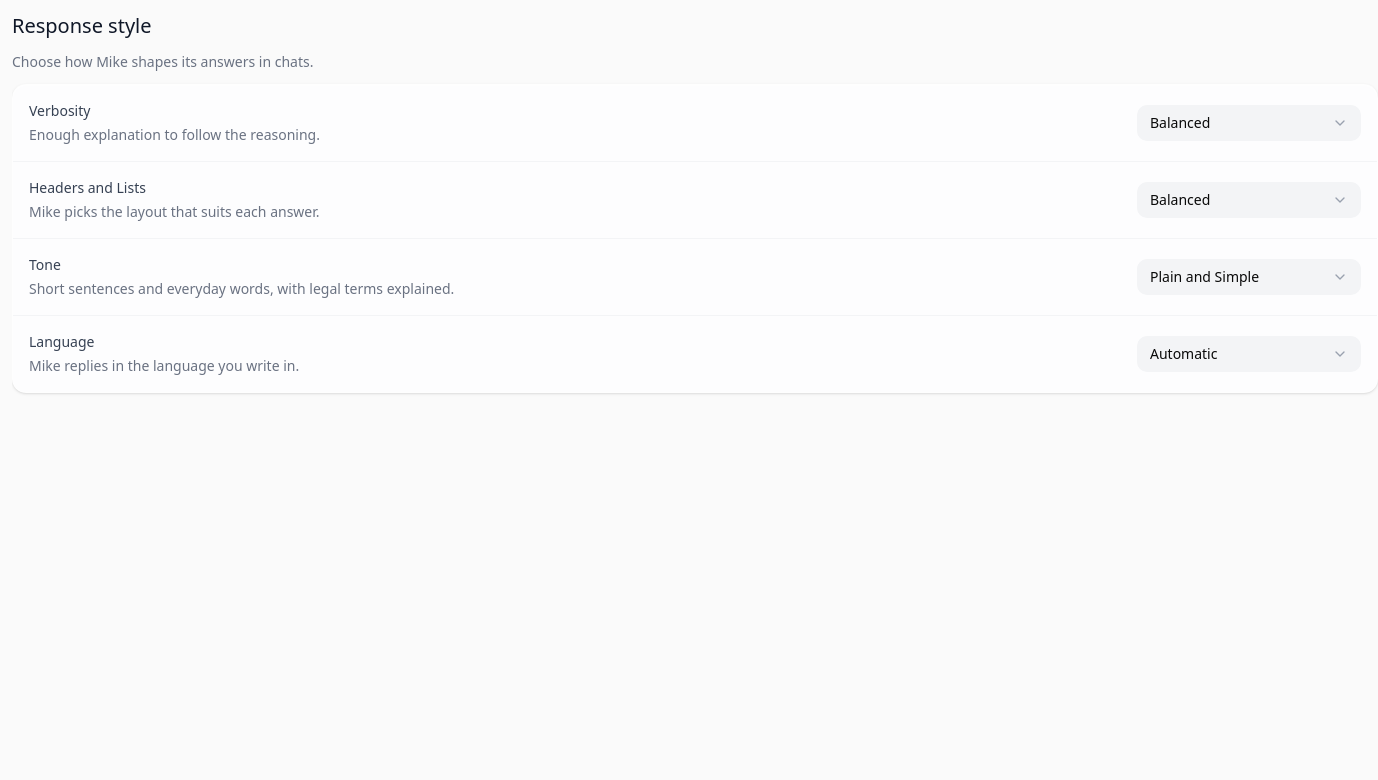
Test: ResponseStyleSection › offers English variants and other languages, and saves the choice
Check: the text "Mike replies in the language you write in." is shown, box 29,356 -> 299,376
Press the mouse on the button with aria-label "Language" at (1249, 354), box 1137,336 -> 1361,372
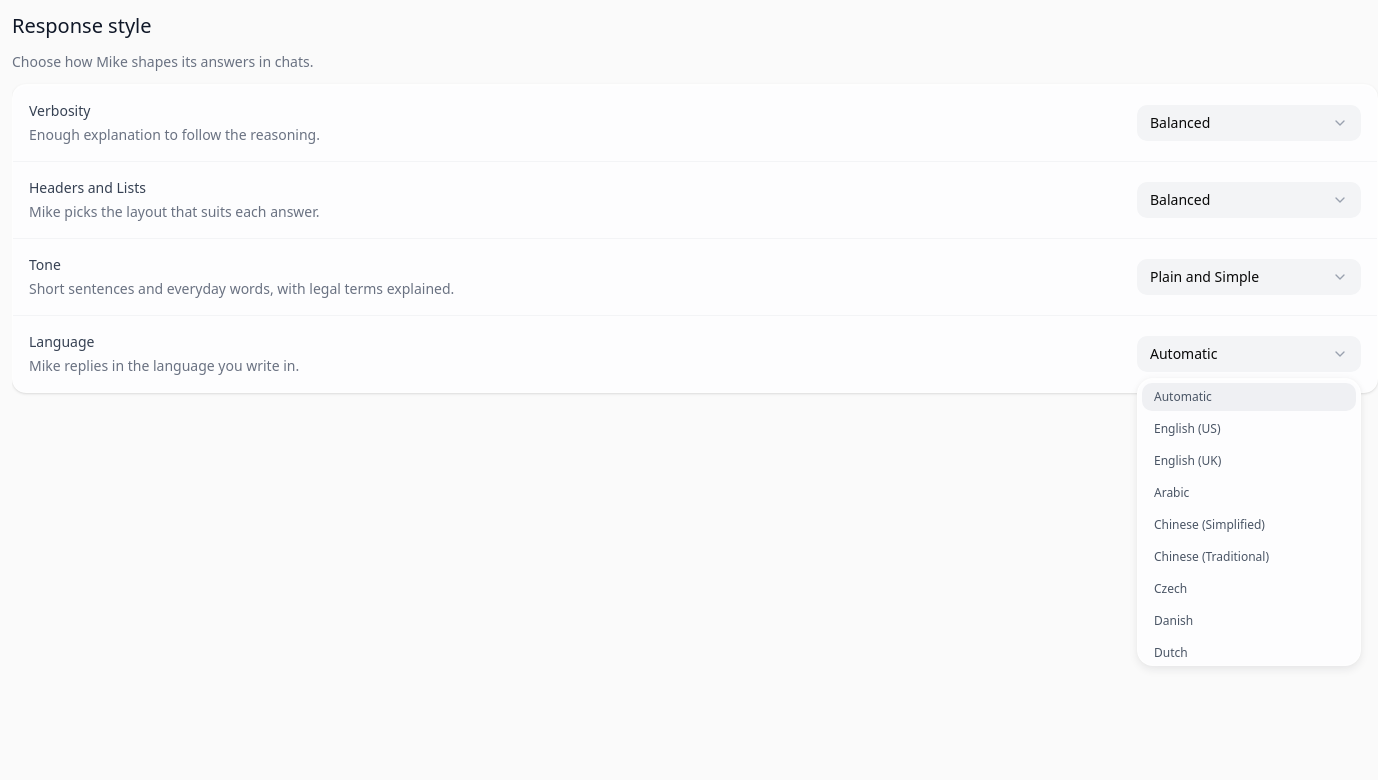
Click the menu item "English (UK)" at (1188, 460), box 1154,452 -> 1221,469
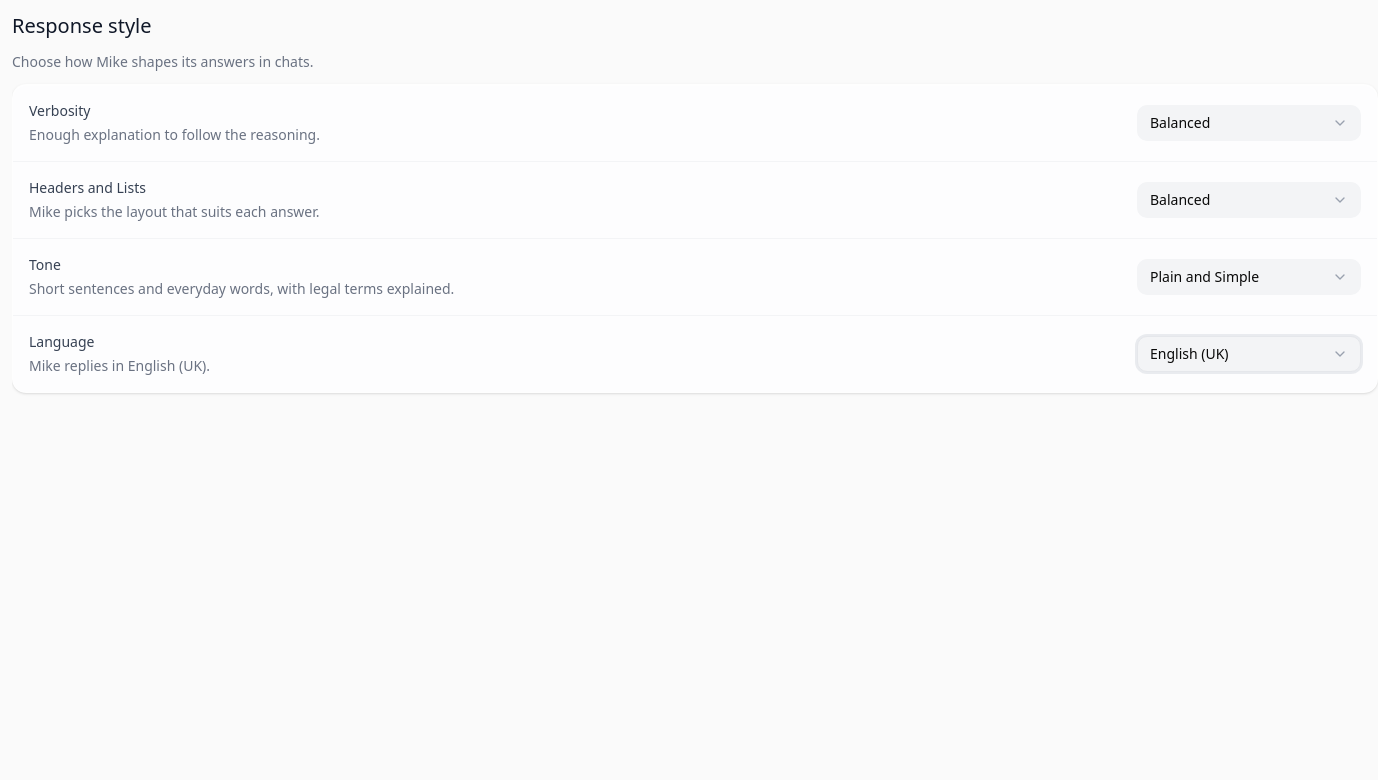
Check: the button with aria-label "Language" reads "English (UK)", box 1137,336 -> 1361,372
Check: the text "Mike replies in English (UK)." is shown, box 29,356 -> 210,376
